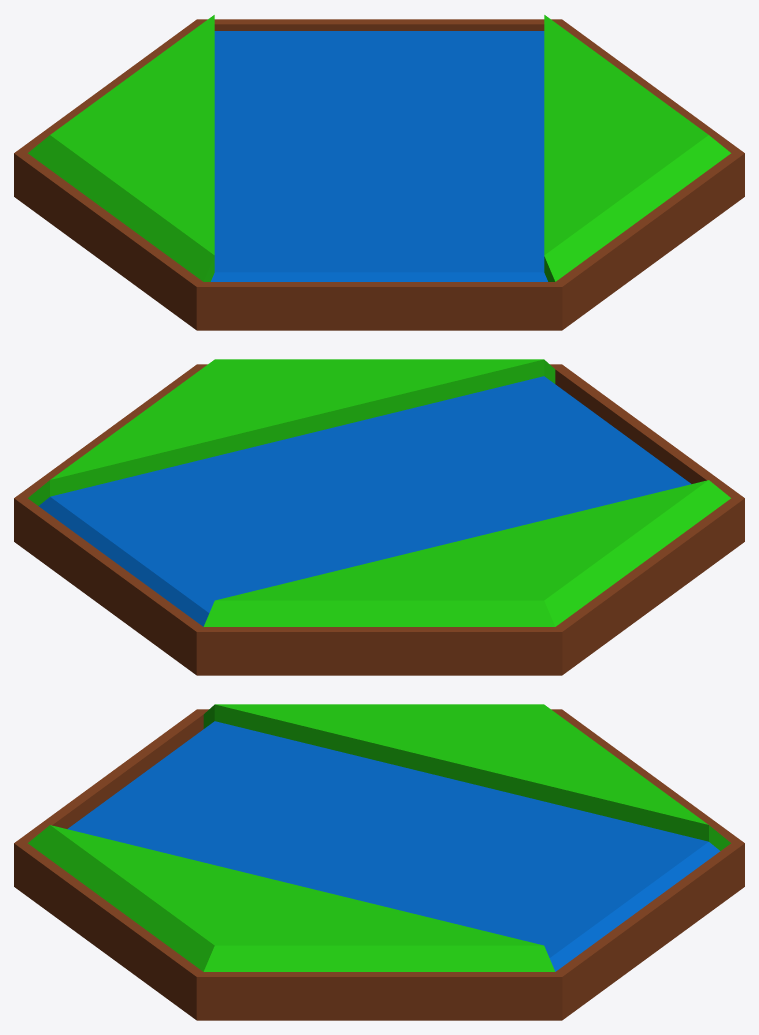
3 renders of one model, top to bottom at view 1: azimuth 30°, elevation 25°; view 2: azimuth 150°, elevation 25°; view 3: azimuth 270°, elevation 25°, orthographic.
Parts seen in each view (by area): view 1: SL2; view 2: SL2; view 3: SL2.
Part boxes in pixels (box(x1,y1,x2,y2)): SL2: box(14, 15, 744, 330); SL2: box(14, 359, 744, 675); SL2: box(14, 704, 744, 1020).
Size of the model in its own units: 173 by 18.65 by 200.
